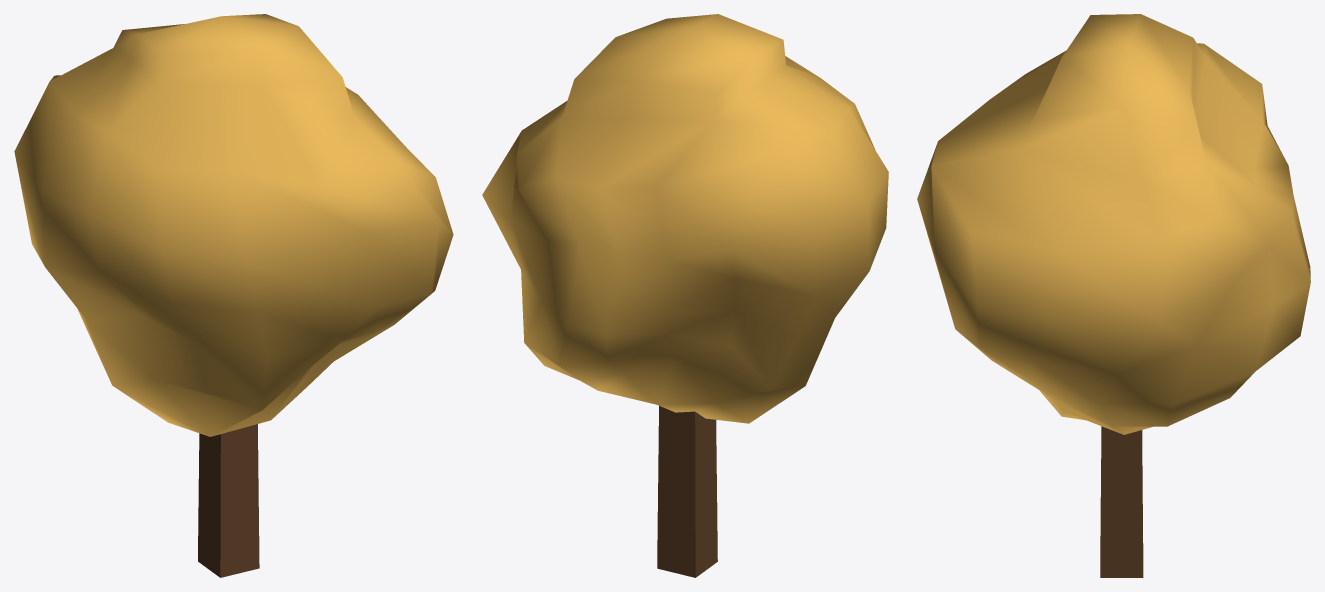
The model's file is PR_treeVar3_01.fbx.
3 renders of one model, left to right at view 1: azimuth 30°, elevation 25°; view 2: azimuth 150°, elevation 25°; view 3: azimuth 270°, elevation 25°, orthographic. The views are drawn at different scales.
Parts seen in each view (by area): view 1: Cube.005, PR_treeVar3_01; view 2: Cube.005, PR_treeVar3_01; view 3: Cube.005, PR_treeVar3_01.
Part boxes in pixels (left/top/right/bottom): Cube.005: left=14, top=14, right=453, bottom=436; PR_treeVar3_01: left=198, top=424, right=259, bottom=577; Cube.005: left=482, top=14, right=888, bottom=423; PR_treeVar3_01: left=657, top=406, right=717, bottom=577; Cube.005: left=917, top=14, right=1310, bottom=434; PR_treeVar3_01: left=1100, top=426, right=1143, bottom=577.
Size of the model in its own units: 407 by 572 by 392.
